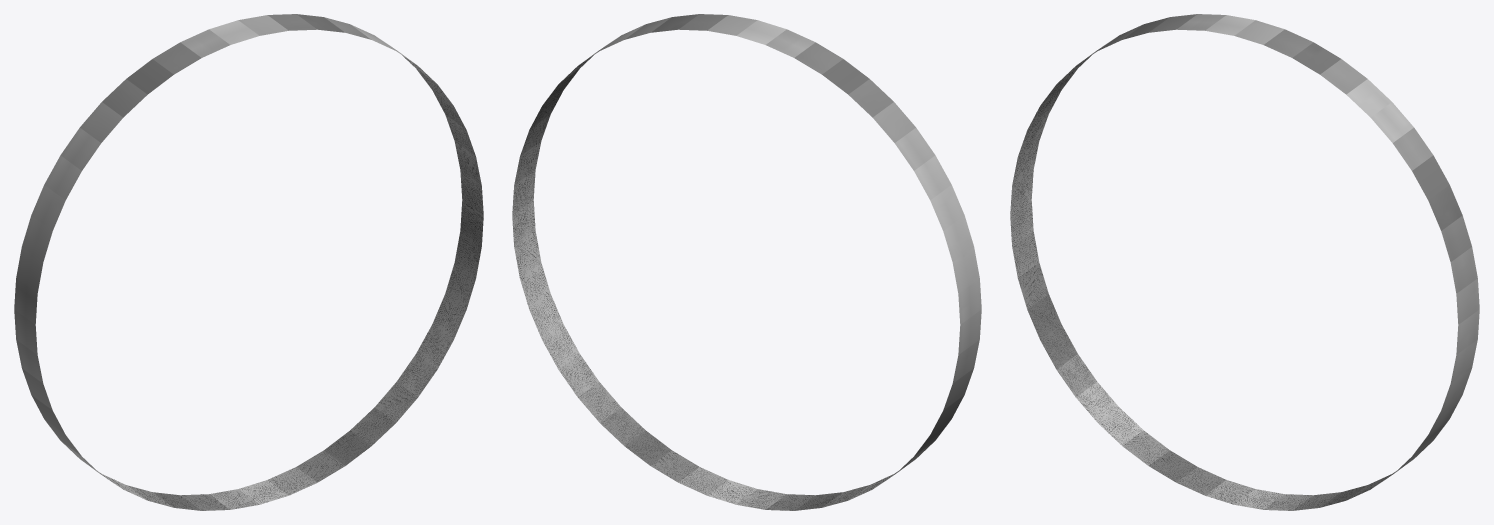
Rendered from original-50.obj.
3 views of the same model, side by side, from view 1: azimuth 30°, elevation 25°; view 2: azimuth 150°, elevation 25°; view 3: azimuth 330°, elevation 25° (orthographic).
Visible parts, largest first — view 1: Group4/mesh3/mesh3-geometry/material_6#mesh3-geometry; view 2: Group4/mesh3/mesh3-geometry/material_6#mesh3-geometry; view 3: Group4/mesh3/mesh3-geometry/material_6#mesh3-geometry.
Part boxes in pixels (x1,y1,x2,y2): Group4/mesh3/mesh3-geometry/material_6#mesh3-geometry: (14,14,483,510); Group4/mesh3/mesh3-geometry/material_6#mesh3-geometry: (512,14,981,510); Group4/mesh3/mesh3-geometry/material_6#mesh3-geometry: (1010,14,1479,510).
Size of the model in its own units: 0.2671 by 0.2671 by 0.0223.
2 materials, 1 textured.
